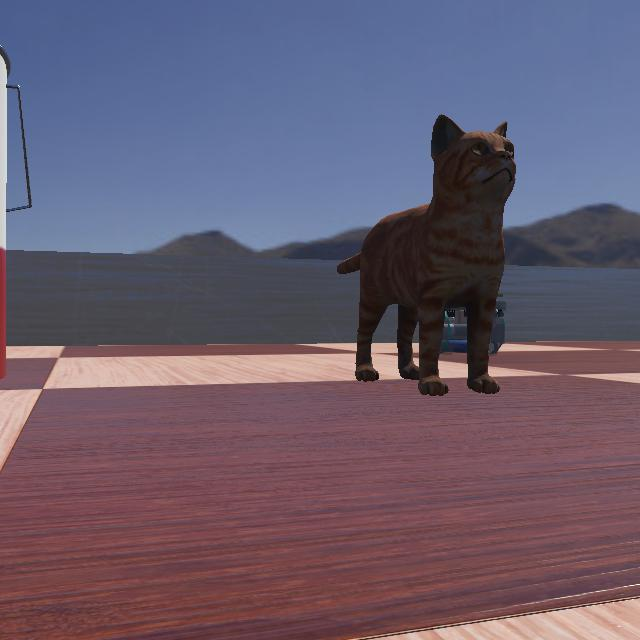cat: (332, 95, 542, 403), (332, 95, 542, 403)
paint-bucket: (0, 0, 84, 410)
